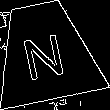N_N: (19, 23, 70, 80)
